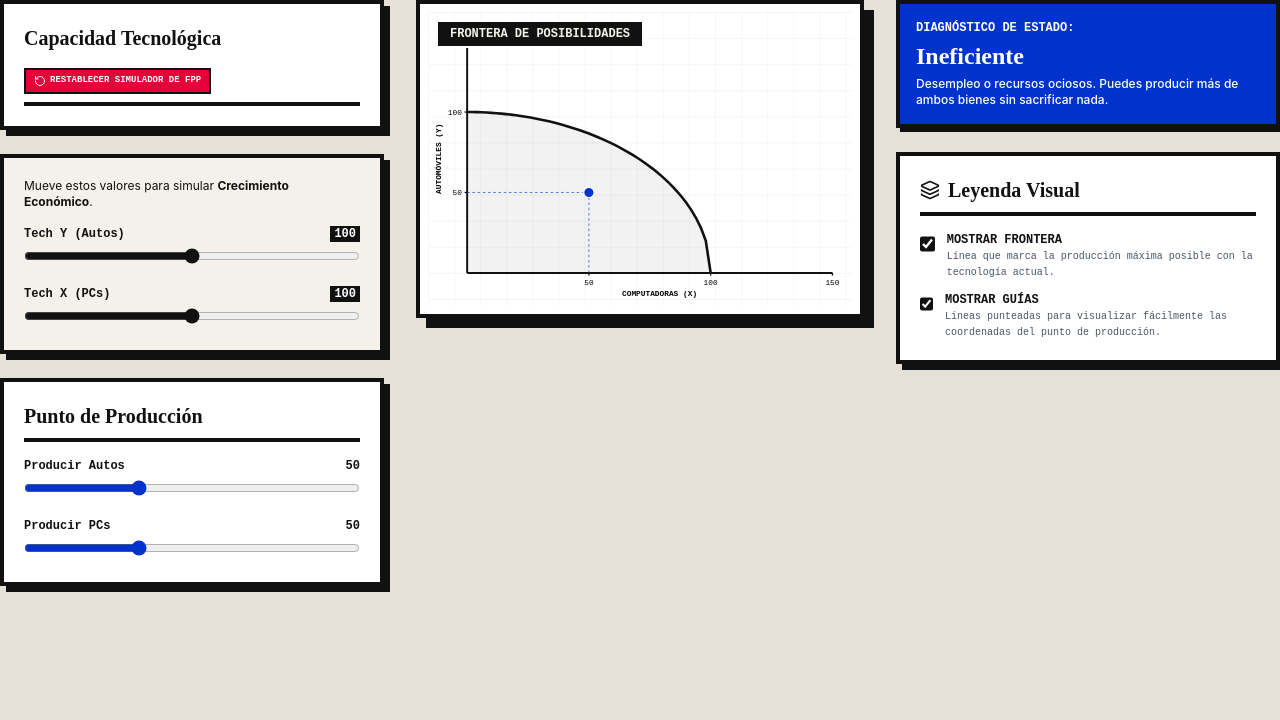
Test: FPP integration › resets controls to defaults
Set the slider below "Tech Y (Autos)" to "120" at (256, 256), box [24,248,360,264]
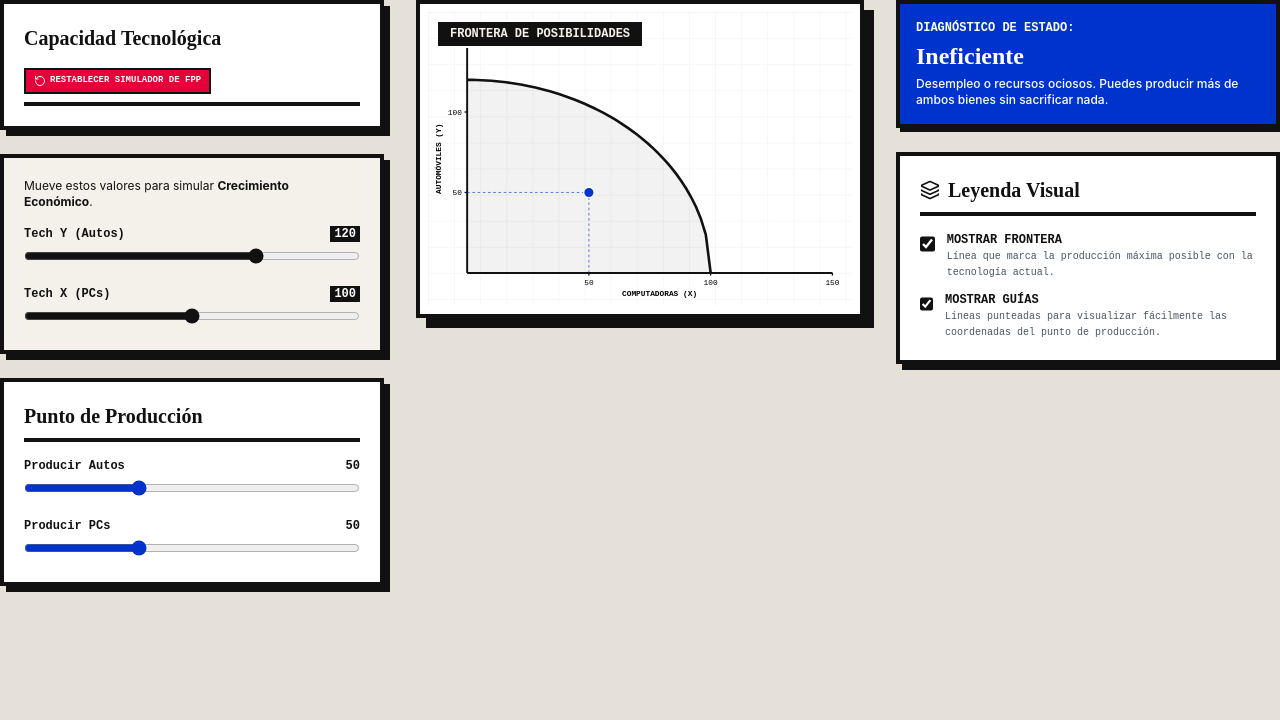
Set the slider below "Producir Autos" to "80" at (203, 488), box [24,480,360,496]
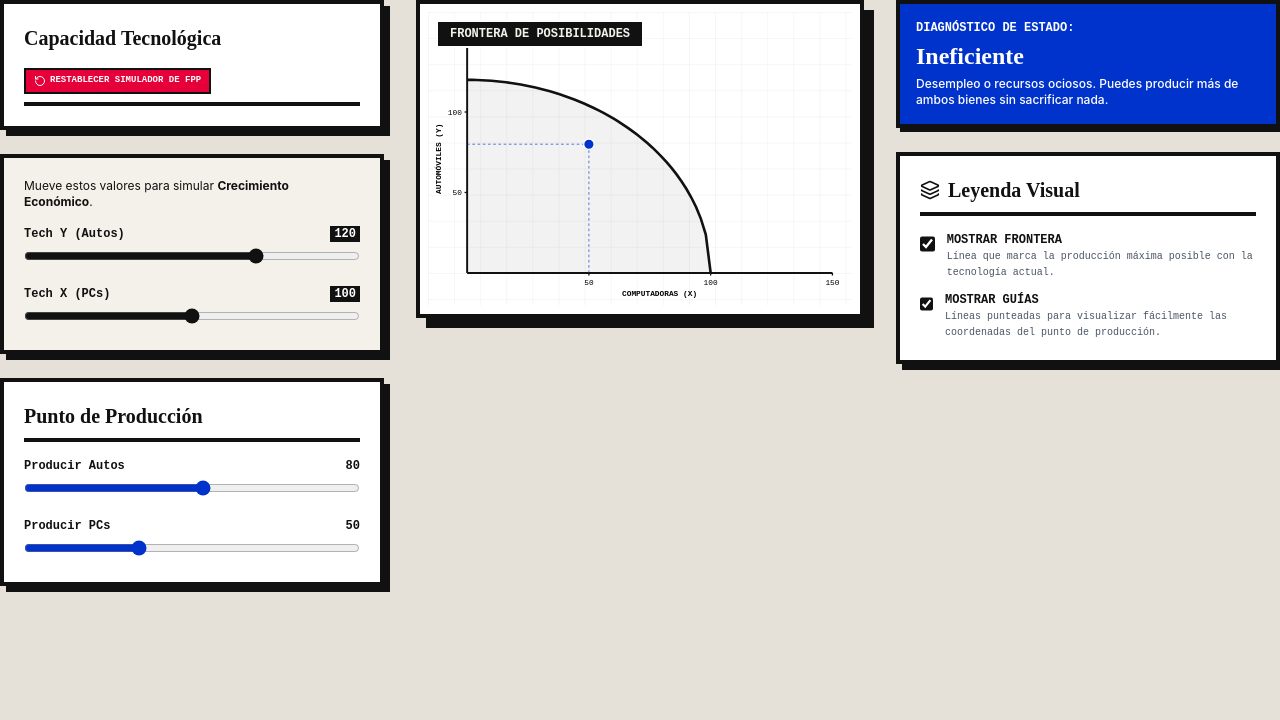
Click the button labelled "Restablecer simulador de FPP".
click(118, 81)  # box [24,68,211,94]
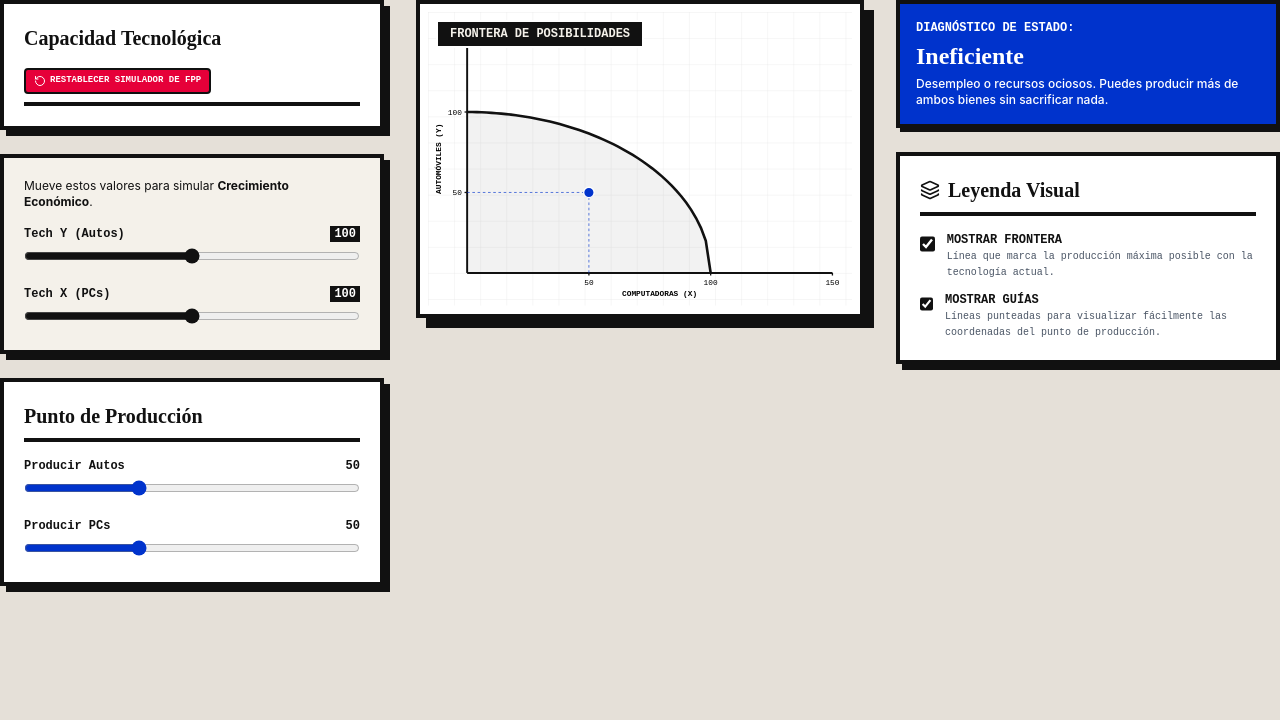
Check: the slider below "Tech X (PCs)" holds "100", box [24,308,360,324]
Check: the slider below "Tech Y (Autos)" holds "100", box [24,248,360,264]
Check: the slider below "Producir Autos" holds "50", box [24,480,360,496]
